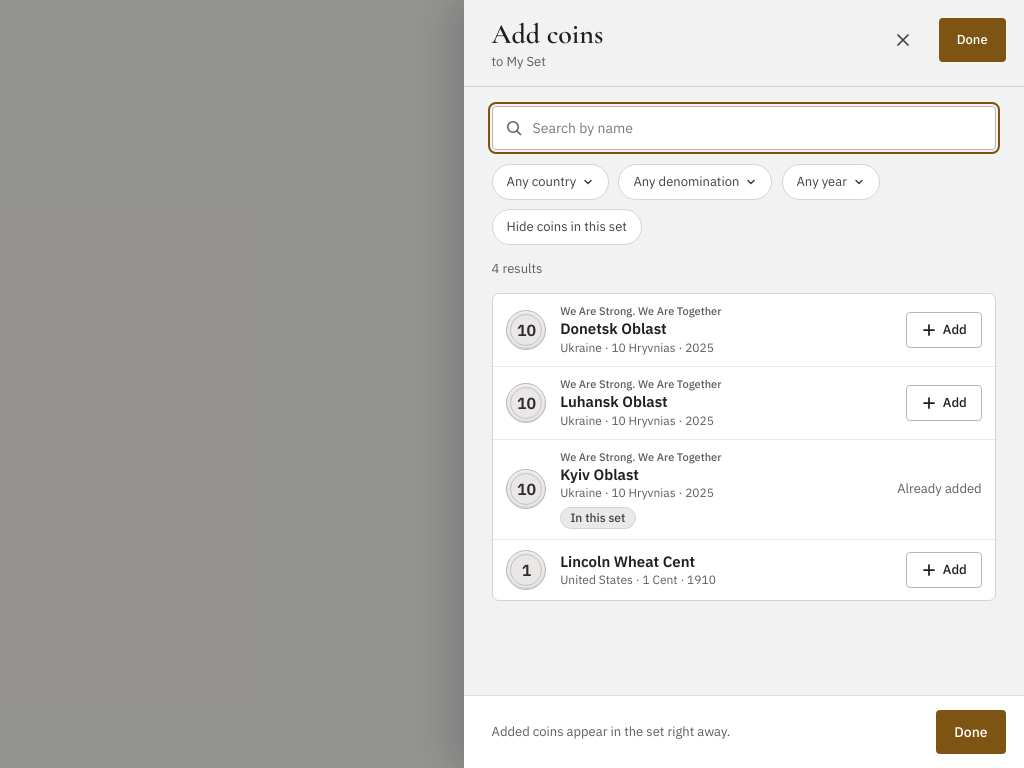
Test: AddCoinsSheet › criterion 4: Country / Denomination / Year chips › choosing a country filters useCatalog, closes the menu, presses the chip and scopes the facets
Click the button with test id "add-coins-filter-country": (550, 182) [492,164,609,200]
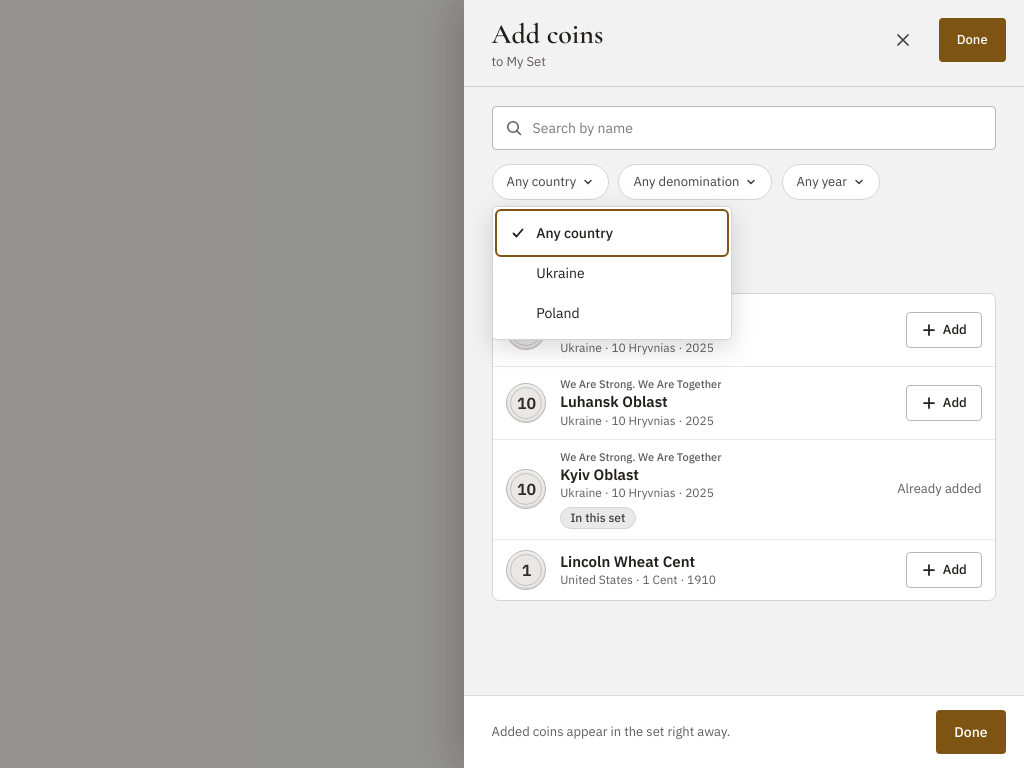
Click the menu item with test id "add-coins-country-option": (612, 273) [499,253,725,293]
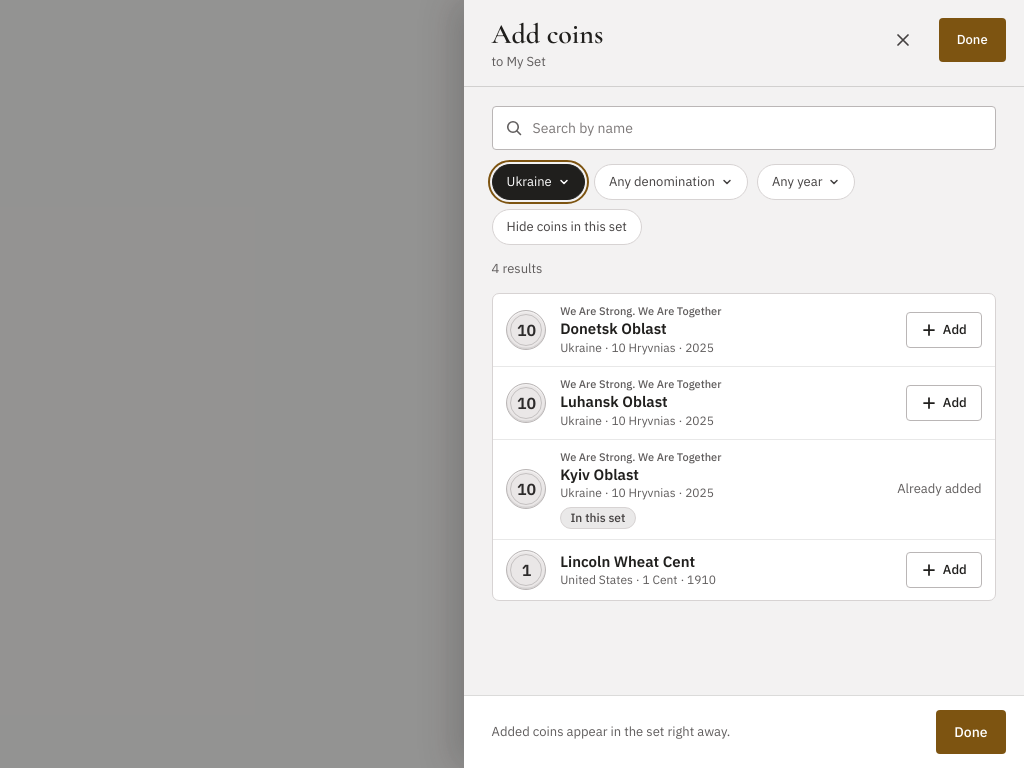
Now the menu with test id "add-coins-country-menu" is gone
Now the button with test id "add-coins-filter-country" reads "Ukraine"
Click the button with test id "add-coins-filter-country": (538, 182) [492,164,585,200]
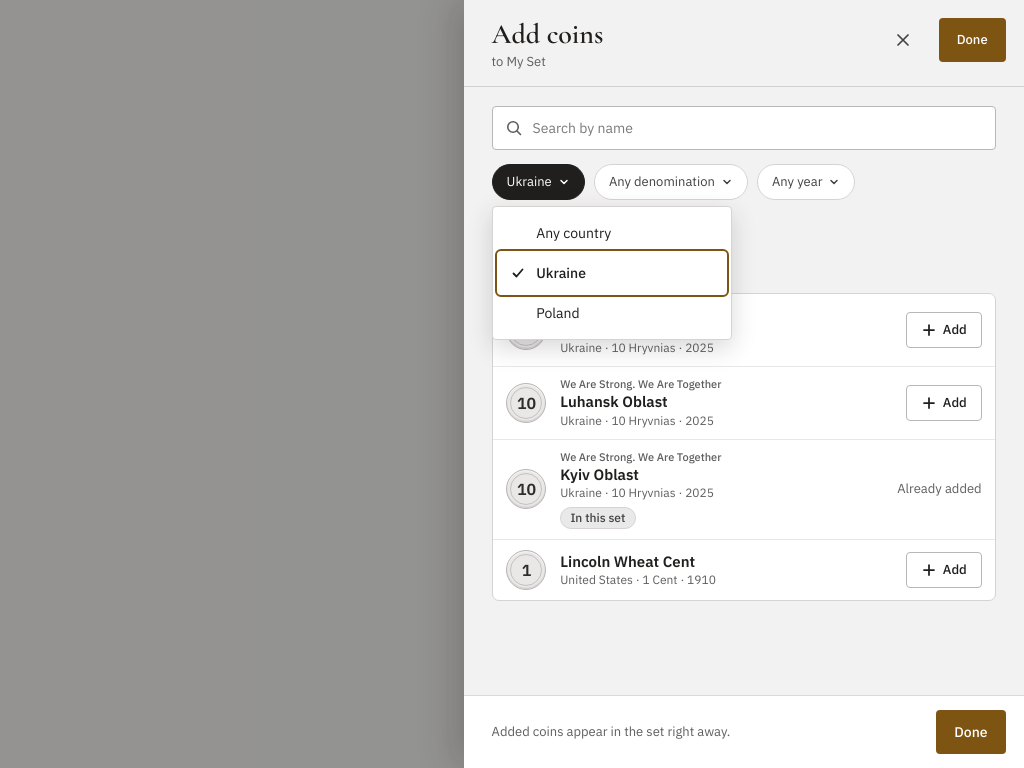
Click the menu item with test id "add-coins-country-option": (612, 313) [499,293,725,333]
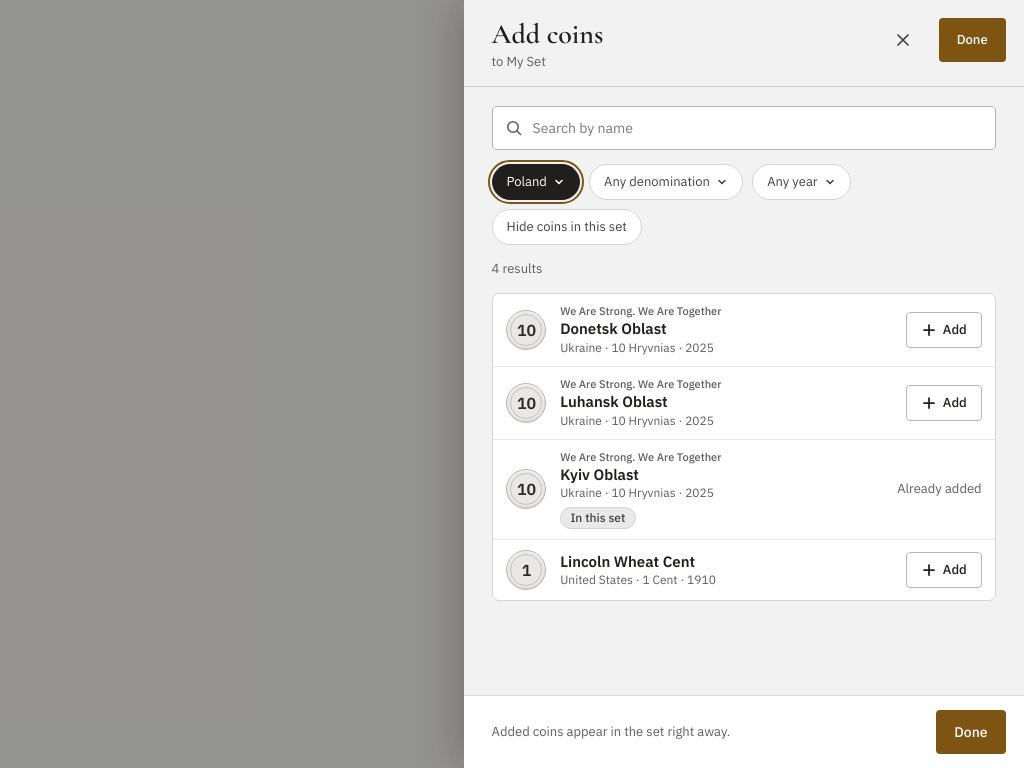
Now the button with test id "add-coins-filter-country" reads "Poland", box [492,164,580,200]
